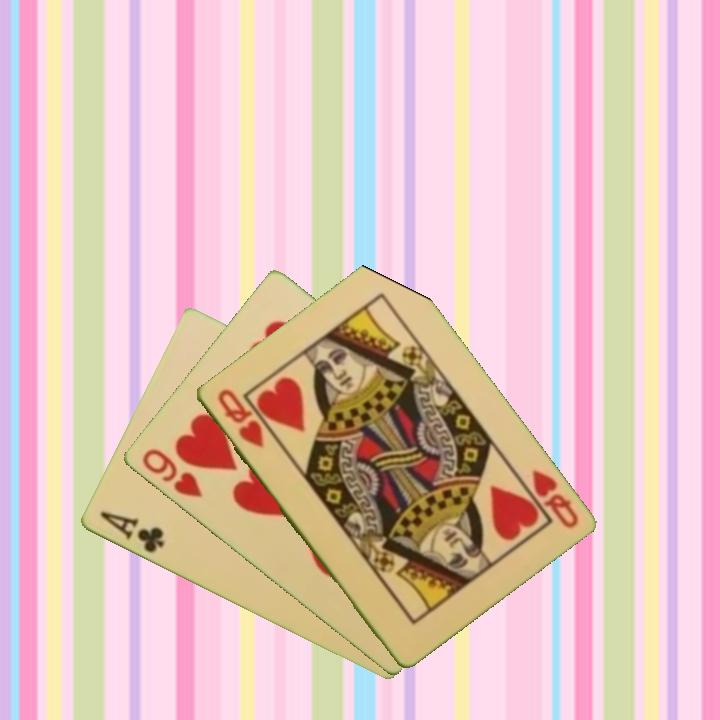9h: (138, 445, 205, 501)
Ac: (96, 507, 167, 556)
Qh: (514, 466, 581, 532), (213, 385, 266, 451)
